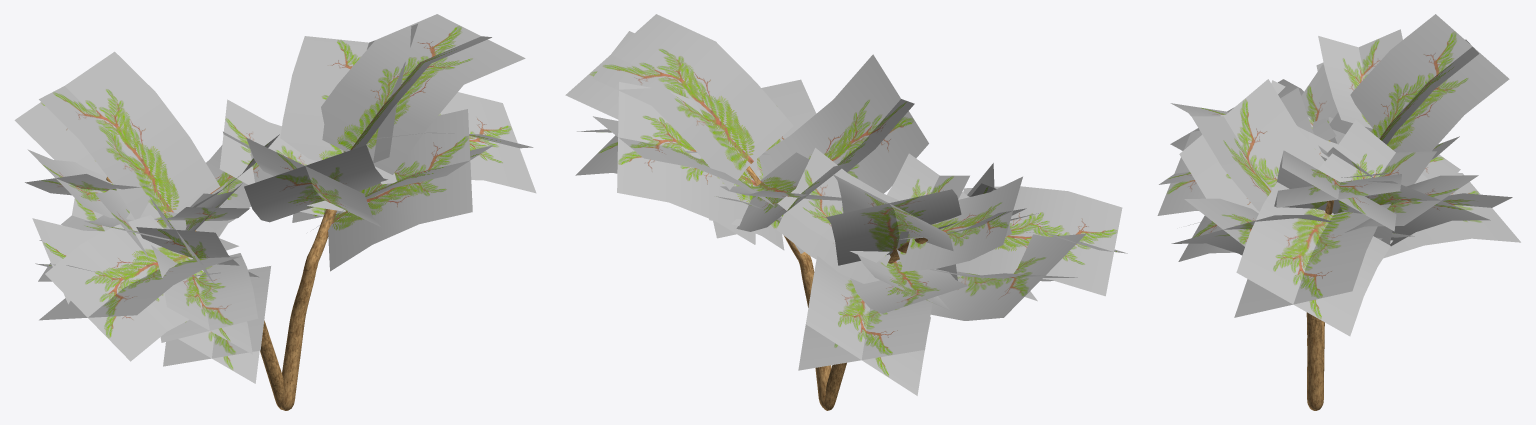
The model's file is SabannaWood_02.fbx.
3 views of the same model, side by side, from view 1: azimuth 30°, elevation 25°; view 2: azimuth 150°, elevation 25°; view 3: azimuth 270°, elevation 25° (orthographic).
Parts seen in each view (by area): view 1: SabannaWood_02; view 2: SabannaWood_02; view 3: SabannaWood_02.
Boxes of the visible parts, x1,y1,x2,y2 form: SabannaWood_02: [14, 14, 536, 410]; SabannaWood_02: [565, 14, 1127, 410]; SabannaWood_02: [1157, 14, 1520, 410].
Bounding box in the file's own units: 1414 × 917 × 905.
